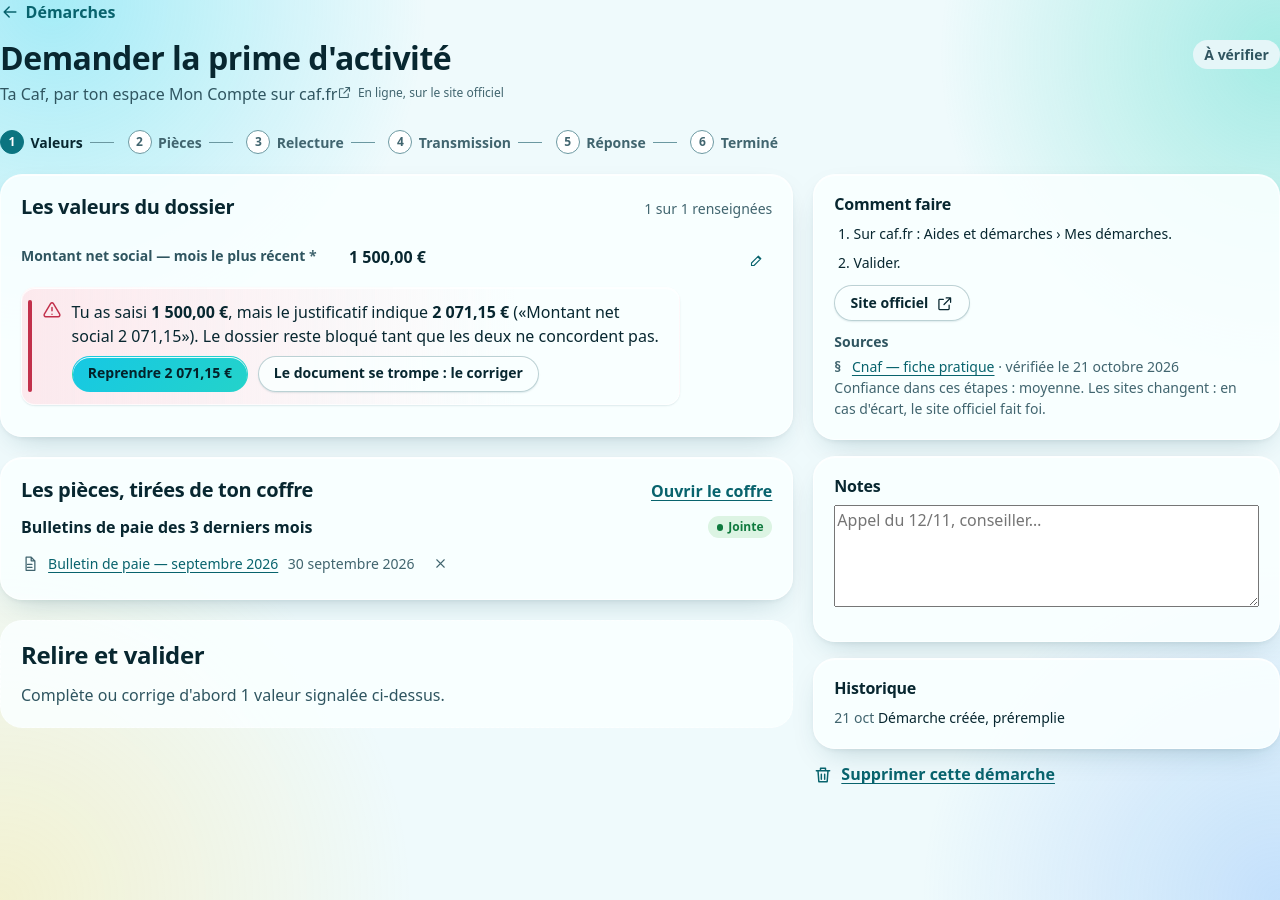
Scenario: démarches › blocks on a value contradicting its proof and restores it in one gesture
Expected: the message shows "le justificatif indique", x1=228 y1=301 x2=432 y2=323
Expected: the link to "#/documents/3" is shown, x1=258 y1=356 x2=539 y2=392
Step 1. Click the button "Reprendre 2 071,15 €" → (160, 374), box x1=72 y1=356 x2=248 y2=392
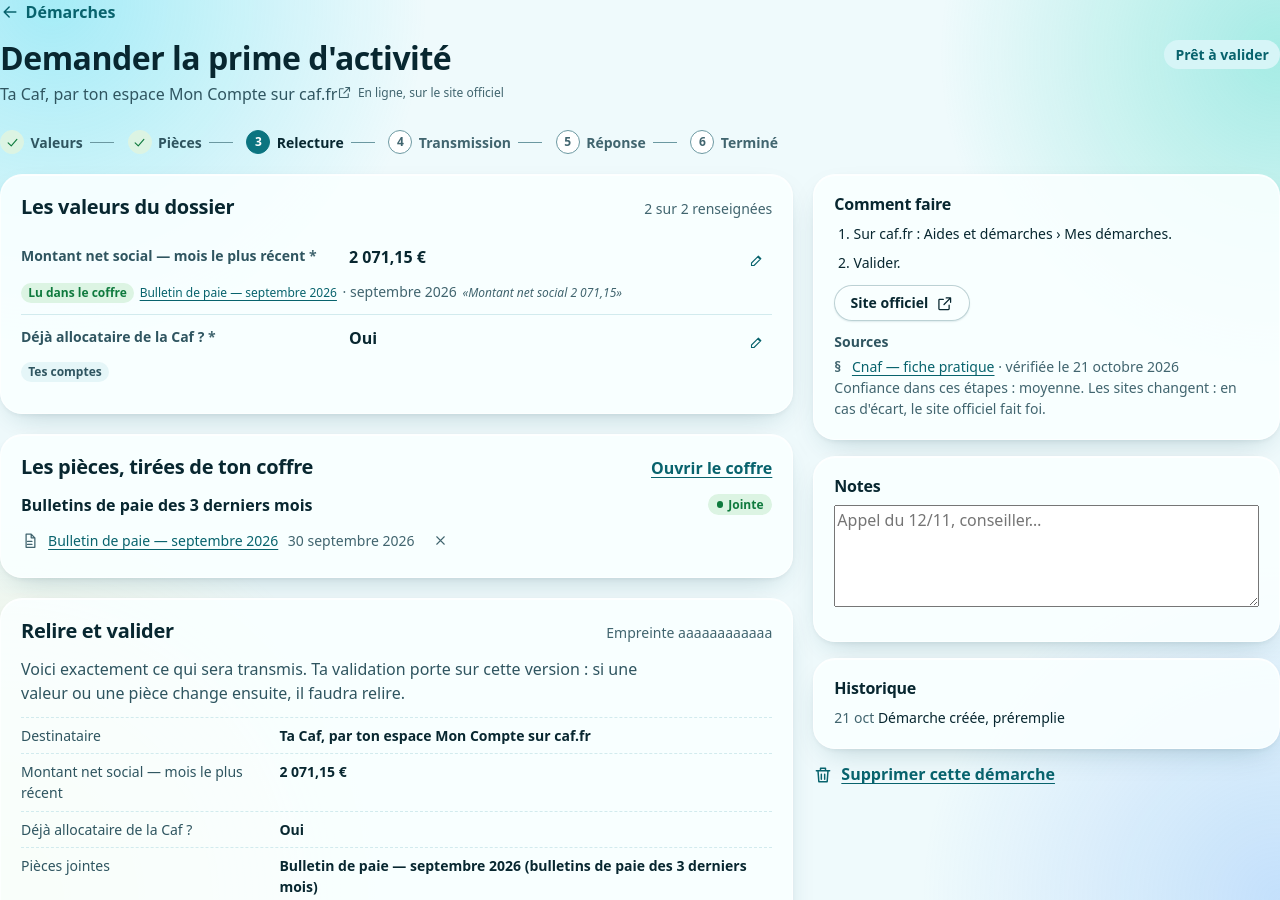
Result: the message is gone
